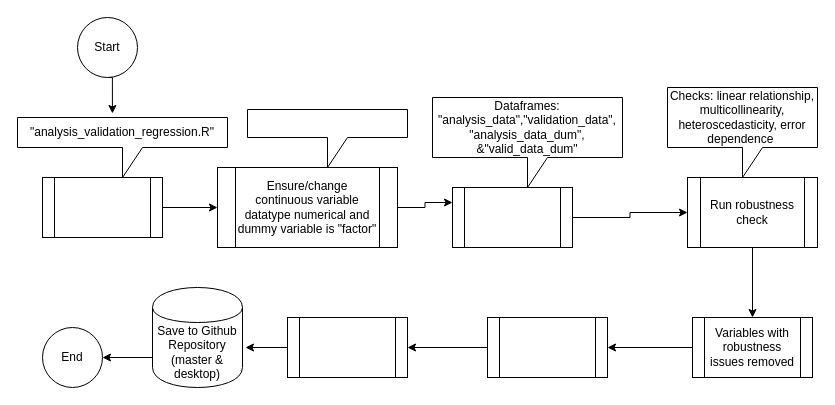
Image size: 835x405. Some labels were removed from this diagram. The shapes that lost their labels are listed below. From the top down, each one's box as (x1, y1, x2, y2) in pixels, then its label:
(246, 108, 408, 168): Packages: "Tidyverse", "MASS" and "Car"
(42, 176, 162, 238): Load dataframes into script
(452, 186, 572, 248): Run regression using relevant variables data frames
(286, 316, 408, 378): Output model results as a .csv file
(486, 316, 608, 378): Print linear model summary
